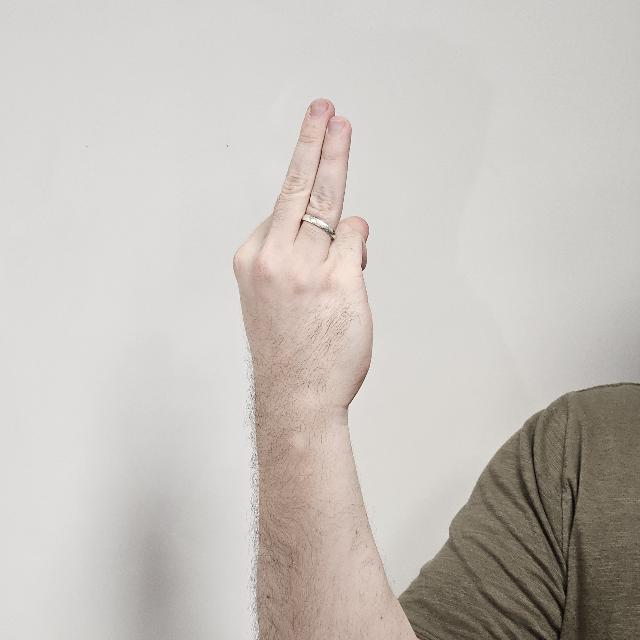R: (234, 98, 374, 474)
